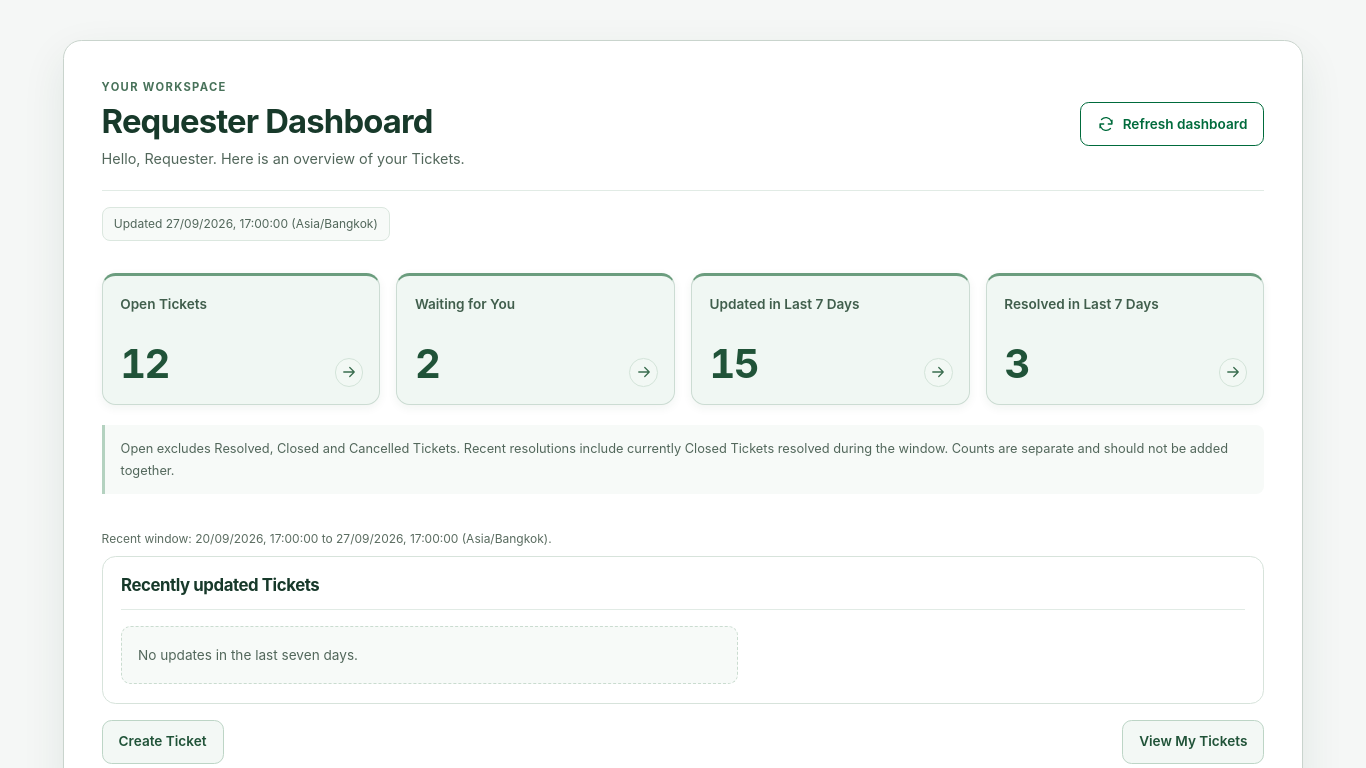
Test: keeps stale data on refresh failure, safely retries and clears it on forbidden
Expected: the link "Open Tickets 12" is shown, top-left (103, 276), bottom-right (379, 404)
Click the button "Refresh dashboard" at (1172, 124), box top-left (1080, 102), bottom-right (1264, 146)
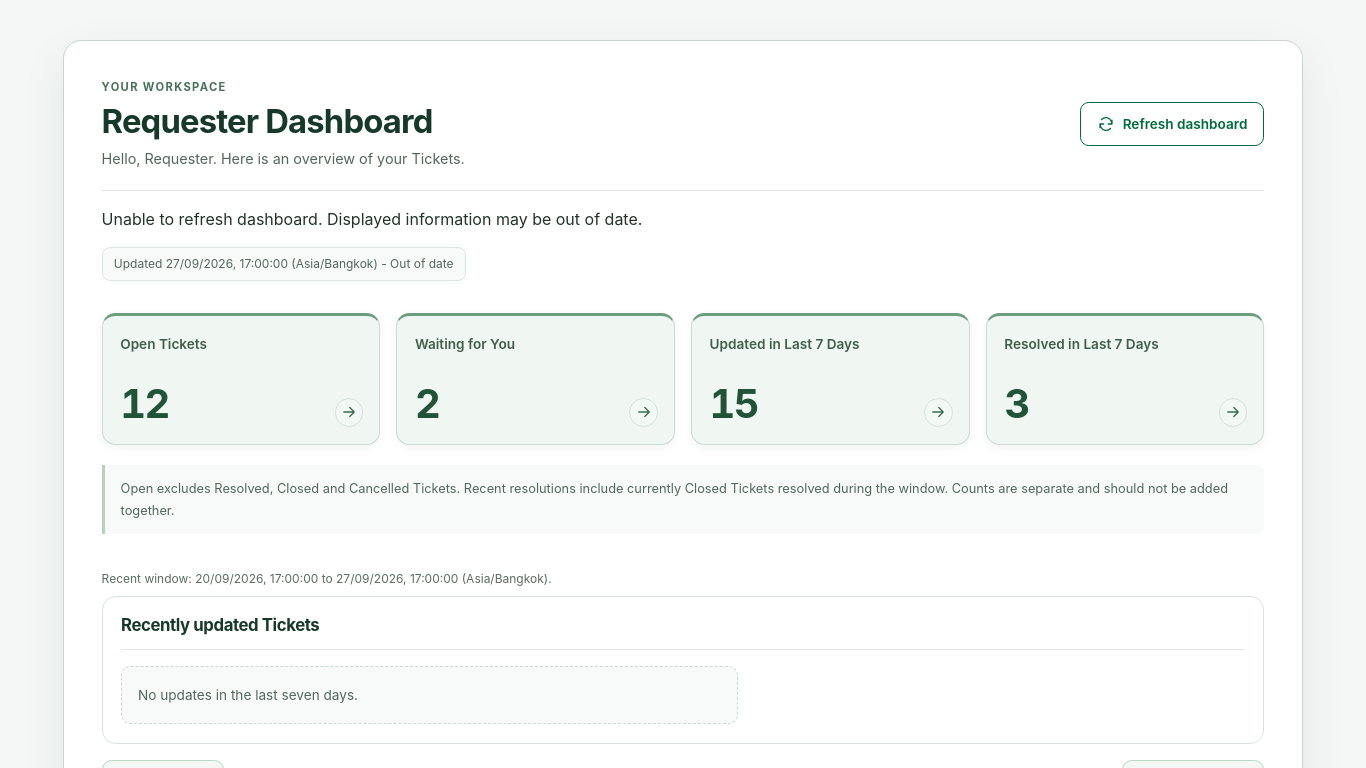
Expected: the link "Open Tickets 12" is shown, top-left (103, 316), bottom-right (379, 444)
Expected: the message shows "out of date", top-left (102, 209), bottom-right (642, 229)
Click the button "Refresh dashboard" at (1172, 124), box top-left (1080, 102), bottom-right (1264, 146)
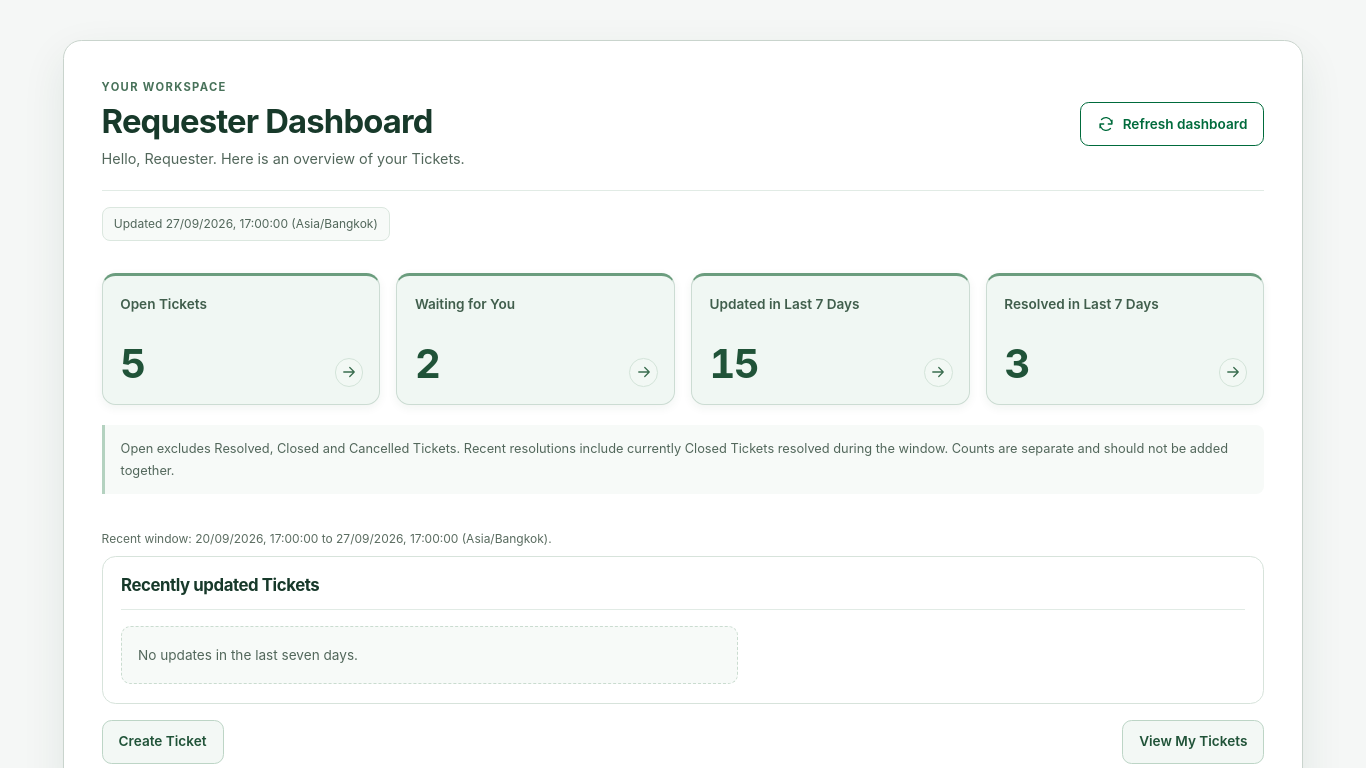
Expected: the link "Open Tickets 5" is shown, top-left (103, 276), bottom-right (379, 404)
Click the button "Refresh dashboard" at (1172, 124), box top-left (1080, 102), bottom-right (1264, 146)
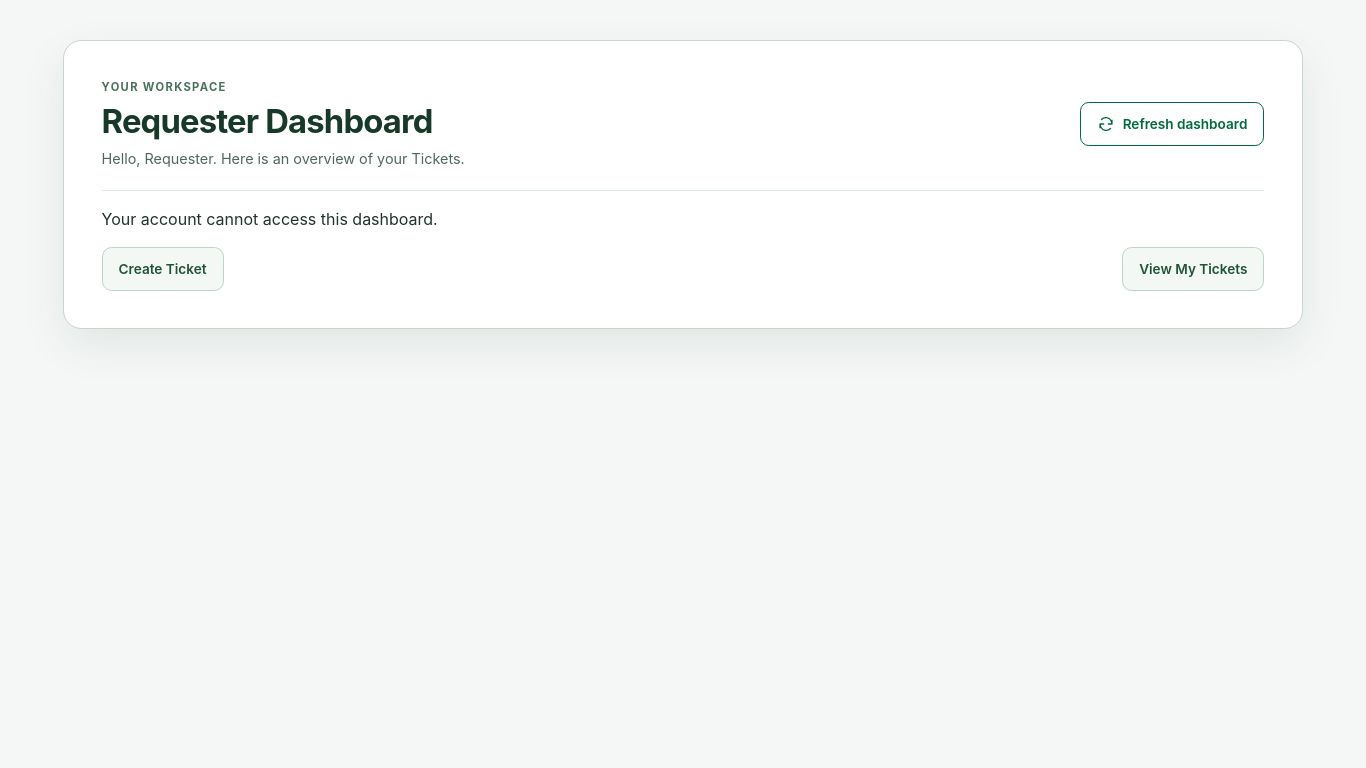
Expected: the text "Your account cannot access this dashboard." is shown, top-left (102, 209), bottom-right (438, 229)
Expected: the link "Open Tickets" is gone
